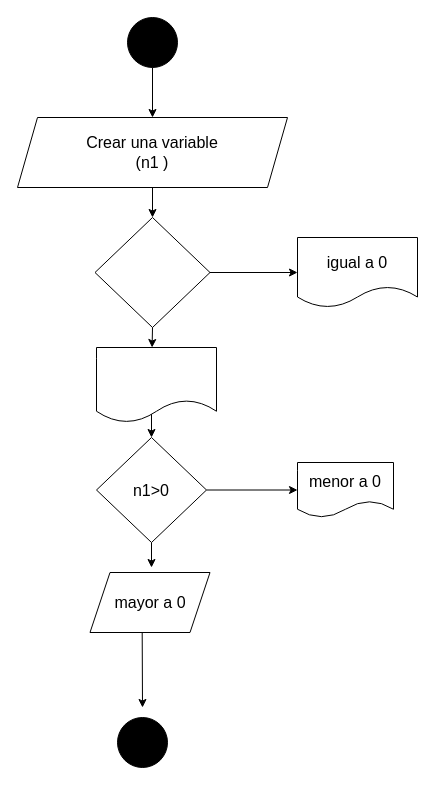
Some shapes in this 435 by 785 pixel diagram are drawn without their labels. The box of each missing label's shape, as (x1, y1, x2, y2) in pixels:
n1 != 0: (94, 216, 210, 328)
su valor es: (96, 346, 216, 422)
